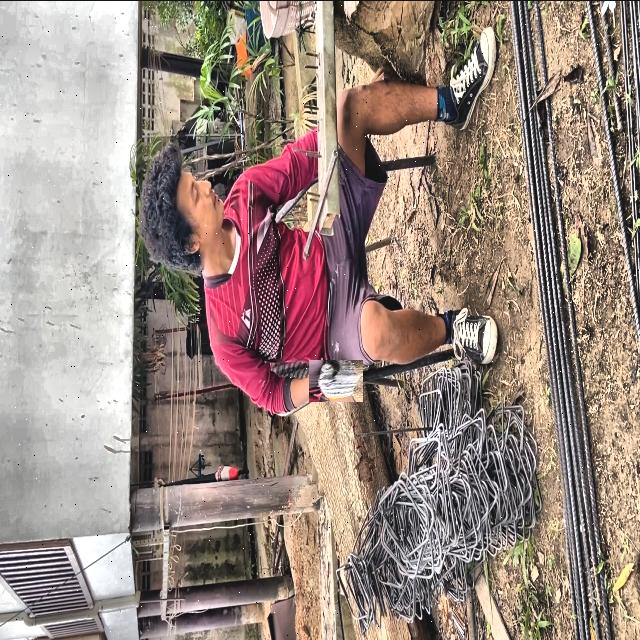gloved: (312, 356, 360, 404)
